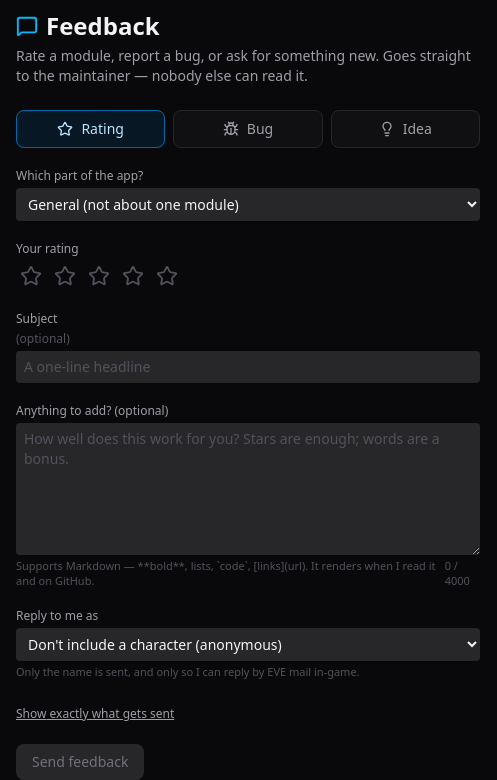
FeedbackPage › won't send a rating until stars are picked
The image size is (497, 780).
Expected: the button "Send feedback" is disabled, [16,744,144,779]
Click the button named "4 stars": (133, 276) [118,261,148,291]
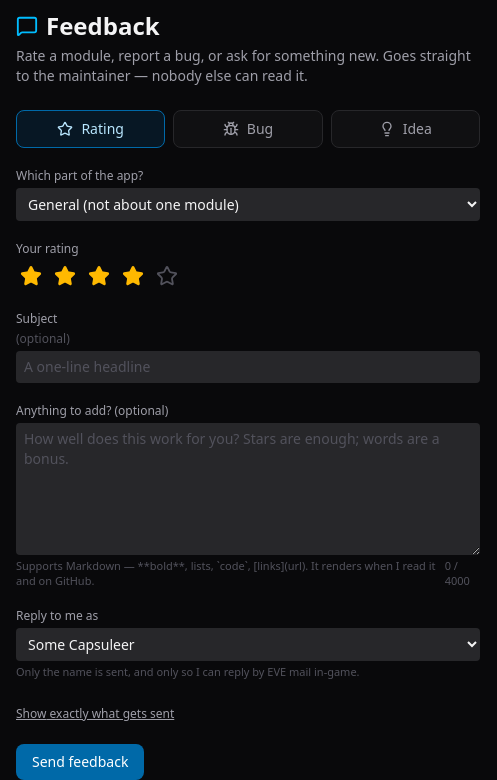
Now the button "Send feedback" is enabled, box [16,744,144,779]
